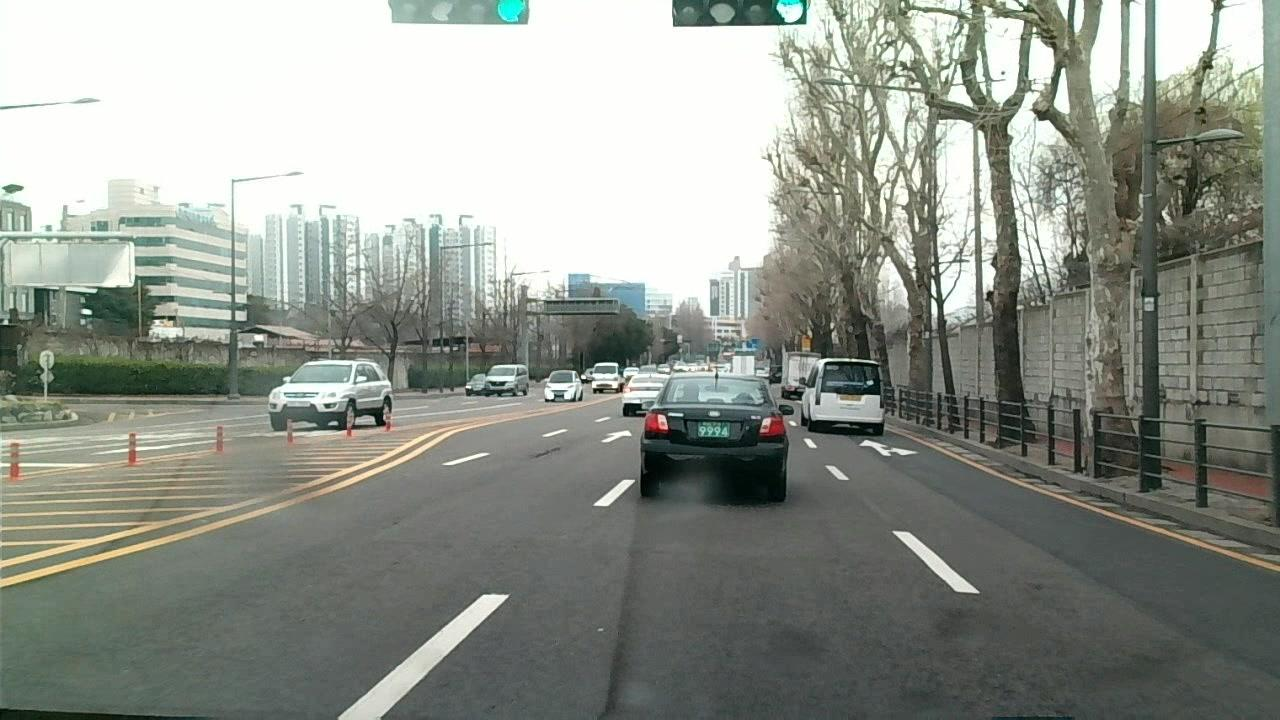banner: (528, 444, 564, 462)
